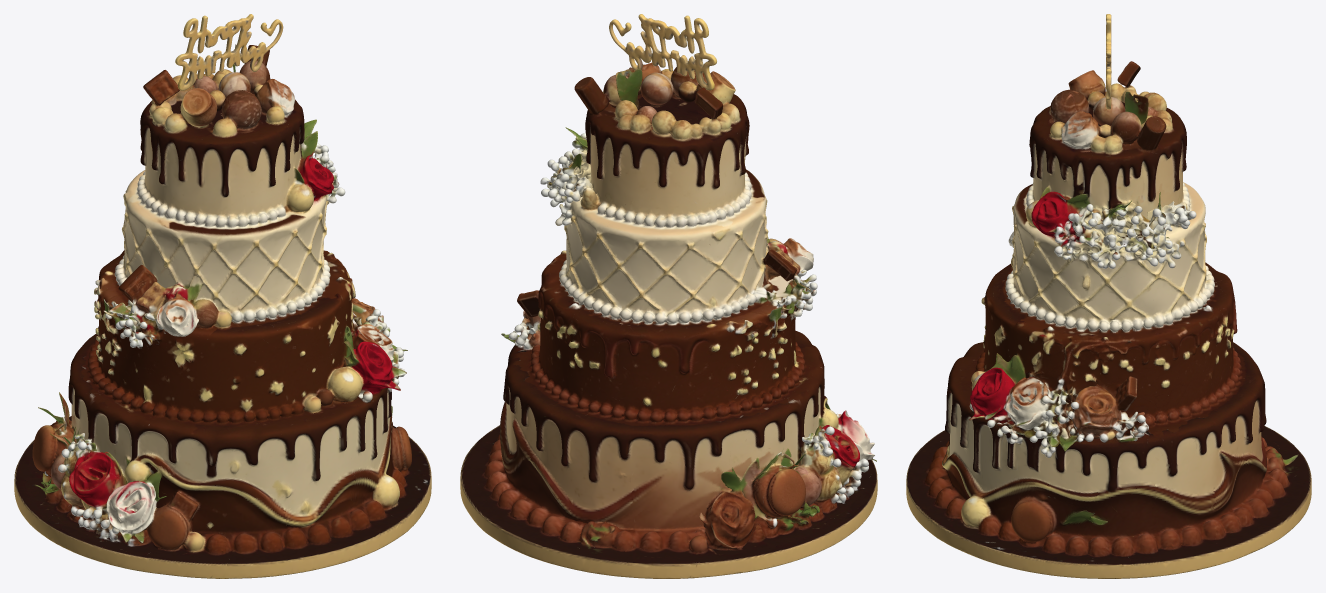
The model's file is cake.glb.
3 views of the same model, side by side, from view 1: azimuth 30°, elevation 25°; view 2: azimuth 150°, elevation 25°; view 3: azimuth 270°, elevation 25° (orthographic). The views are drawn at different scales.
Bounding box in the file's own units: 1.5 × 1.9 × 1.5.
Materials: 1 (1 with a texture image).
